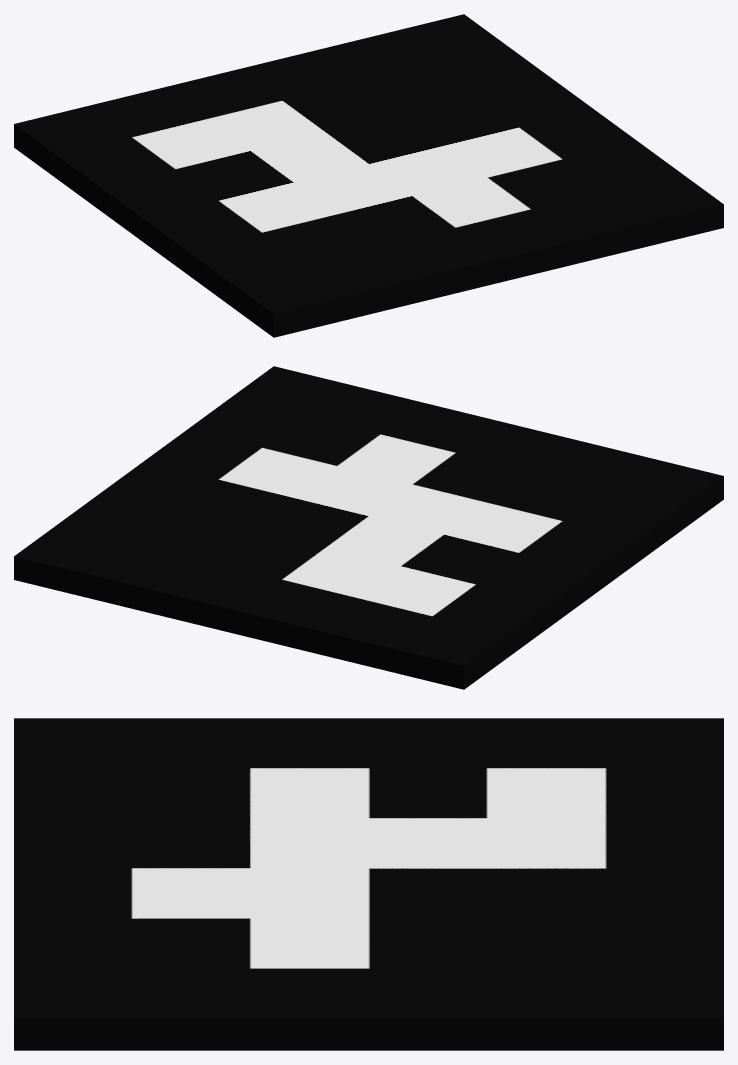
Rendered from marker_07.dae.
3 views of the same model, one above another, from view 1: azimuth 30°, elevation 25°; view 2: azimuth 150°, elevation 25°; view 3: azimuth 270°, elevation 25° (orthographic). The views are drawn at different scales.
Visible parts, largest first — view 1: group_0, group_0.001; view 2: group_0, group_0.001; view 3: group_0, group_0.001.
Part boxes in pixels (box(x1,y1,x2,y2)): group_0: box(14, 14, 723, 313); group_0.001: box(14, 124, 723, 337); group_0: box(14, 366, 723, 665); group_0.001: box(14, 476, 723, 689); group_0: box(14, 718, 723, 1018); group_0.001: box(14, 1018, 723, 1050).
Size of the model in its own units: 0.1 by 0.1 by 0.005.
2 materials, 1 textured.
